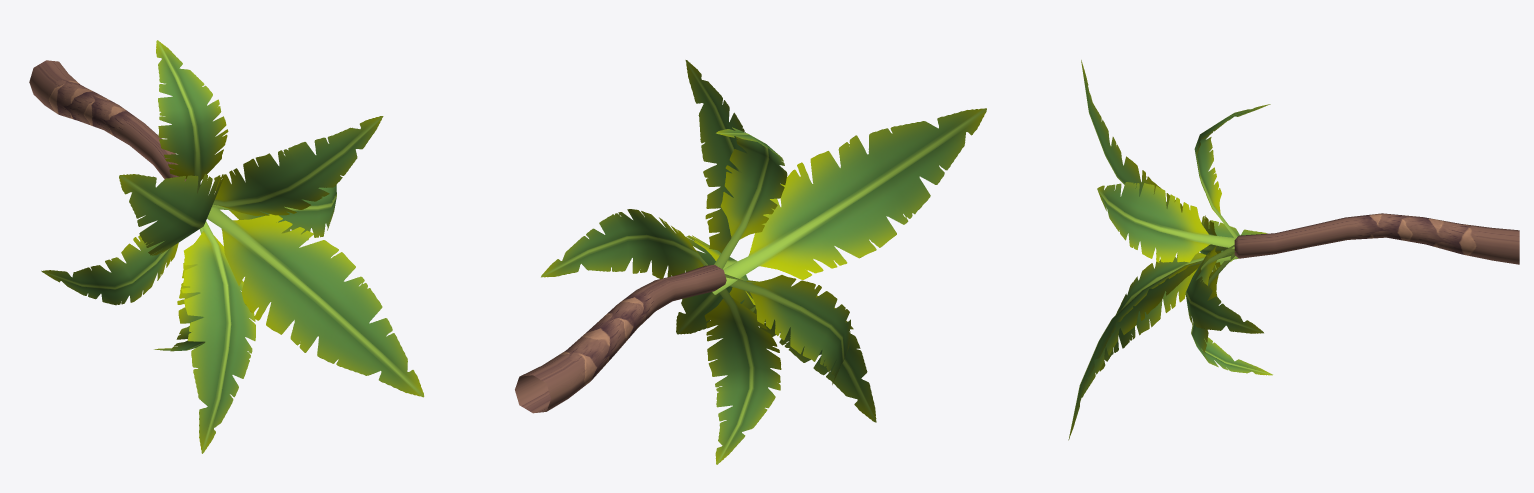
Rendered from PalmTree_3.glb.
3 views of the same model, side by side, from view 1: azimuth 30°, elevation 25°; view 2: azimuth 150°, elevation 25°; view 3: azimuth 270°, elevation 25° (orthographic). The views are drawn at different scales.
Visible parts, largest first — view 1: PalmTree_3; view 2: PalmTree_3; view 3: PalmTree_3.
Boxes of the visible parts, <box> form: PalmTree_3: <box>29,40,424,453</box>; PalmTree_3: <box>515,60,986,464</box>; PalmTree_3: <box>1068,60,1519,440</box>.
Size of the model in its own units: 4.47 by 4.22 by 4.67.
Materials: 2 (2 with a texture image).
